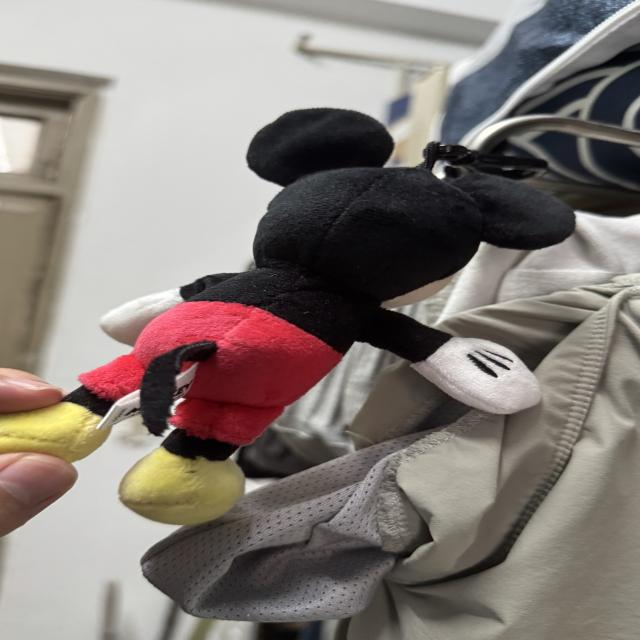mickey: (0, 109, 574, 524)
